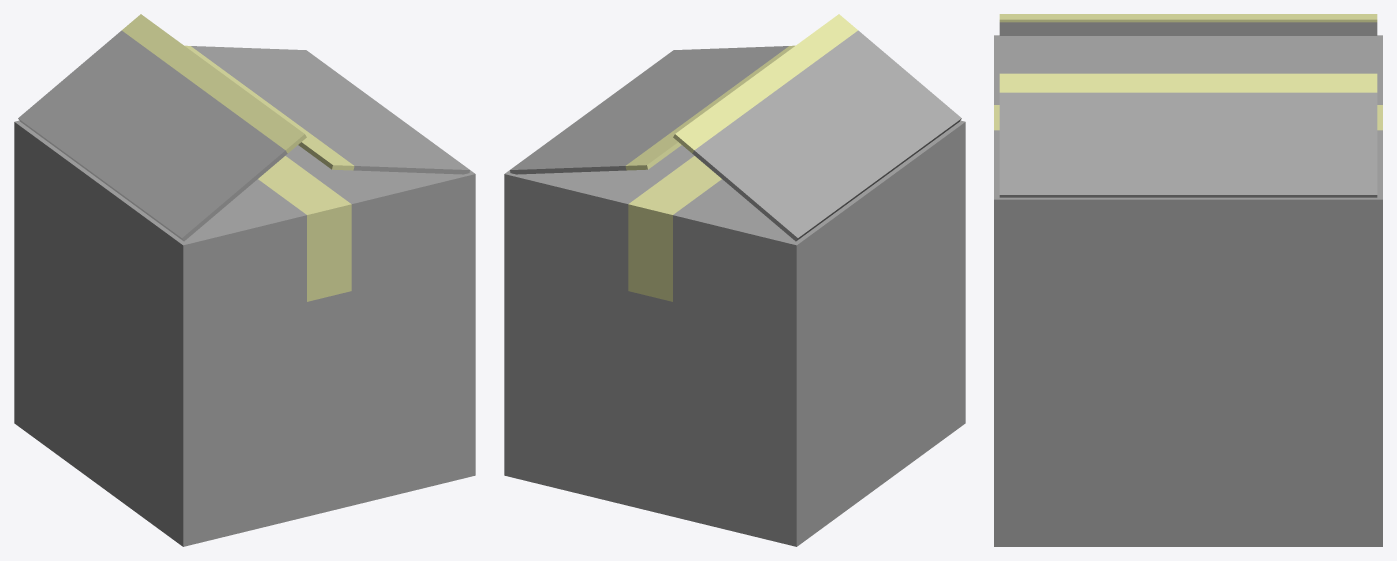
Rendered from ConcreteBoxs.fbx.
The picture shows the model from 3 angles, left to right: view 1: azimuth 30°, elevation 25°; view 2: azimuth 150°, elevation 25°; view 3: azimuth 270°, elevation 25°; orthographic projection. The views are drawn at different scales.
Parts seen in each view (by area): view 1: ConcreteBox2, ConcreteBox1; view 2: ConcreteBox2, ConcreteBox1; view 3: ConcreteBox2, ConcreteBox1.
Part boxes in pixels (box(x1,y1,x2,y2)): ConcreteBox2: box(14, 14, 475, 546); ConcreteBox1: box(22, 123, 462, 242); ConcreteBox2: box(504, 14, 965, 546); ConcreteBox1: box(517, 123, 957, 242); ConcreteBox2: box(994, 14, 1382, 546); ConcreteBox1: box(999, 38, 1377, 73).
Bounding box in the file's own units: 2.05 × 2.55 × 2.05.
